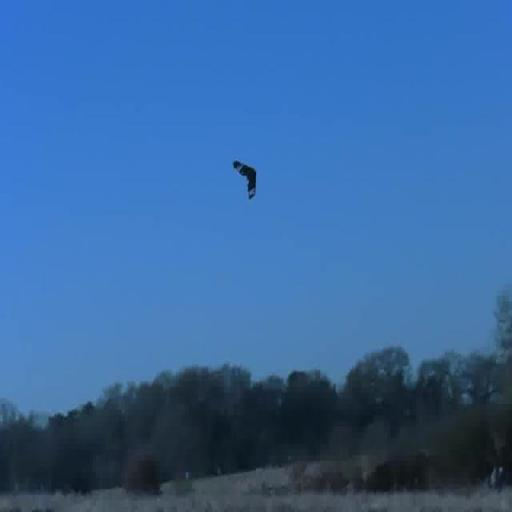uav: (231, 156, 262, 206)
